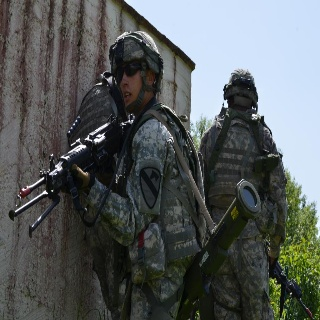rifle: (11, 117, 121, 237), (268, 258, 313, 320)
